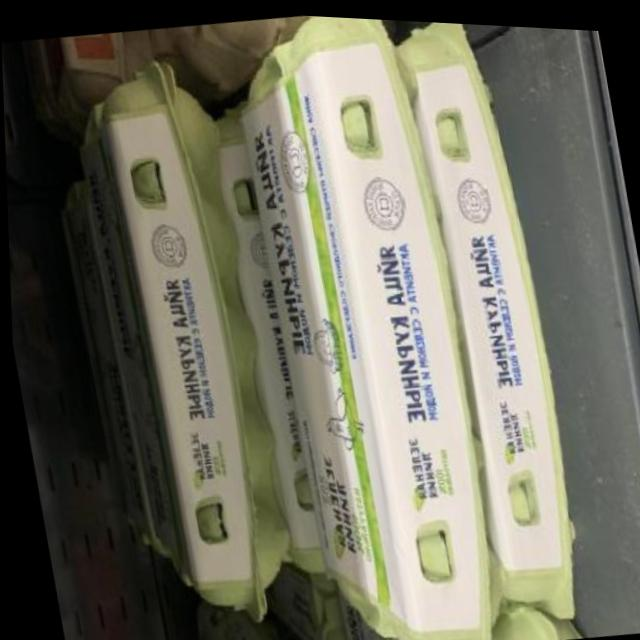Egg: (222, 9, 513, 640), (61, 43, 305, 637), (390, 16, 595, 625)
